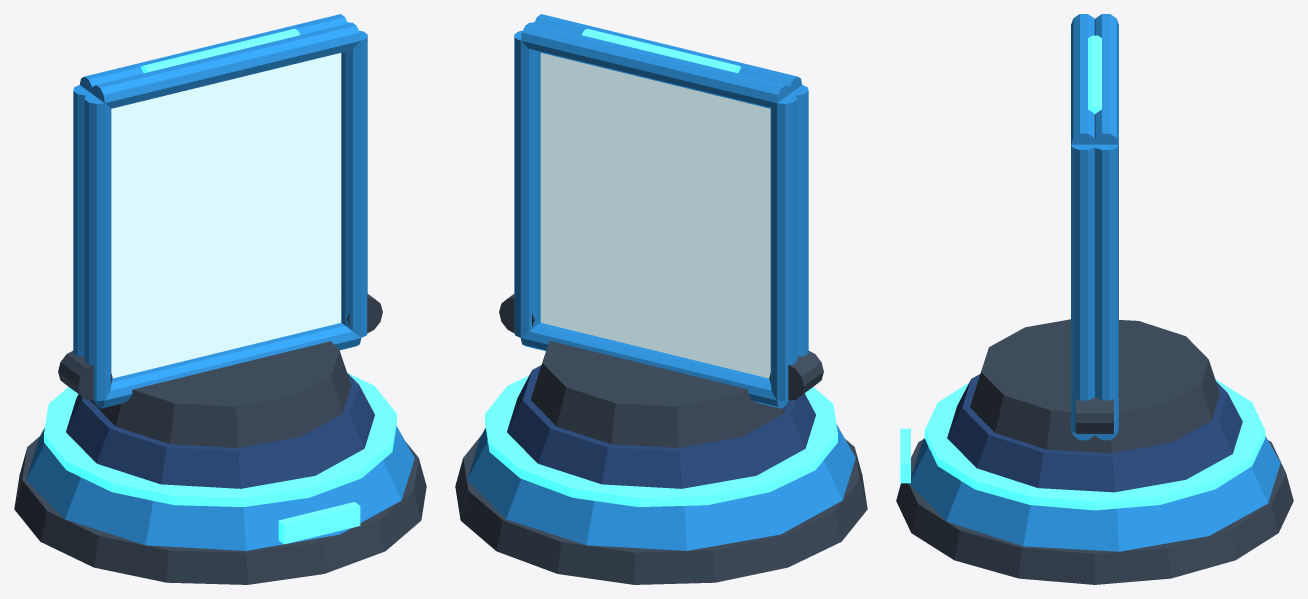
Rendered from double_mirror_blue.glb.
3 renders of one model, left to right at view 1: azimuth 30°, elevation 25°; view 2: azimuth 150°, elevation 25°; view 3: azimuth 270°, elevation 25°, orthographic. The views are drawn at different scales.
Visible parts, largest first — view 1: double_mirror_blue_Mirror_Back, double_mirror_blue_Back_Frame, double_mirror_blue_Splitter_Cradle, double_mirror_blue_Base_Lower, double_mirror_blue_Base_Armor, double_mirror_blue_Base_Deck, double_mirror_blue_Base_Light_Ring, double_mirror_blue_Front_Frame, double_mirror_blue_Status_Light, double_mirror_blue_Top_Status_Line, double_mirror_blue_Left_Hinge; view 2: double_mirror_blue_Mirror_Front, double_mirror_blue_Front_Frame, double_mirror_blue_Base_Armor, double_mirror_blue_Splitter_Cradle, double_mirror_blue_Base_Lower, double_mirror_blue_Base_Deck, double_mirror_blue_Base_Light_Ring, double_mirror_blue_Back_Frame, double_mirror_blue_Top_Status_Line, double_mirror_blue_Left_Hinge; view 3: double_mirror_blue_Splitter_Cradle, double_mirror_blue_Base_Armor, double_mirror_blue_Base_Lower, double_mirror_blue_Base_Deck, double_mirror_blue_Base_Light_Ring, double_mirror_blue_Front_Frame, double_mirror_blue_Back_Frame, double_mirror_blue_Right_Hinge, double_mirror_blue_Top_Status_Line, double_mirror_blue_Status_Light.
Part boxes in pixels (bbox=[...]): double_mirror_blue_Mirror_Back: bbox=[111, 53, 341, 378]; double_mirror_blue_Back_Frame: bbox=[84, 22, 367, 408]; double_mirror_blue_Splitter_Cradle: bbox=[90, 341, 351, 447]; double_mirror_blue_Base_Lower: bbox=[14, 436, 426, 584]; double_mirror_blue_Base_Armor: bbox=[26, 426, 414, 550]; double_mirror_blue_Base_Deck: bbox=[66, 373, 374, 488]; double_mirror_blue_Base_Light_Ring: bbox=[44, 373, 396, 506]; double_mirror_blue_Front_Frame: bbox=[73, 14, 350, 400]; double_mirror_blue_Status_Light: bbox=[278, 502, 360, 544]; double_mirror_blue_Top_Status_Line: bbox=[141, 28, 299, 73]; double_mirror_blue_Left_Hinge: bbox=[58, 351, 112, 400]; double_mirror_blue_Mirror_Front: bbox=[540, 53, 770, 378]; double_mirror_blue_Front_Frame: bbox=[514, 22, 797, 408]; double_mirror_blue_Base_Armor: bbox=[467, 424, 855, 550]; double_mirror_blue_Splitter_Cradle: bbox=[530, 341, 785, 447]; double_mirror_blue_Base_Lower: bbox=[455, 435, 867, 584]; double_mirror_blue_Base_Deck: bbox=[507, 365, 815, 488]; double_mirror_blue_Base_Light_Ring: bbox=[485, 375, 837, 506]; double_mirror_blue_Back_Frame: bbox=[531, 14, 808, 400]; double_mirror_blue_Top_Status_Line: bbox=[582, 28, 740, 73]; double_mirror_blue_Left_Hinge: bbox=[769, 351, 823, 400]; double_mirror_blue_Splitter_Cradle: bbox=[970, 319, 1219, 453]; double_mirror_blue_Base_Armor: bbox=[909, 436, 1280, 551]; double_mirror_blue_Base_Lower: bbox=[896, 439, 1293, 584]; double_mirror_blue_Base_Deck: bbox=[947, 374, 1242, 492]; double_mirror_blue_Base_Light_Ring: bbox=[924, 379, 1265, 510]; double_mirror_blue_Front_Frame: bbox=[1093, 14, 1118, 440]; double_mirror_blue_Back_Frame: bbox=[1071, 14, 1096, 440]; double_mirror_blue_Right_Hinge: bbox=[1076, 397, 1113, 433]; double_mirror_blue_Top_Status_Line: bbox=[1088, 35, 1101, 114]; double_mirror_blue_Status_Light: bbox=[900, 428, 910, 483].
Size of the model in its own units: 1.04 by 1.24 by 1.04.
